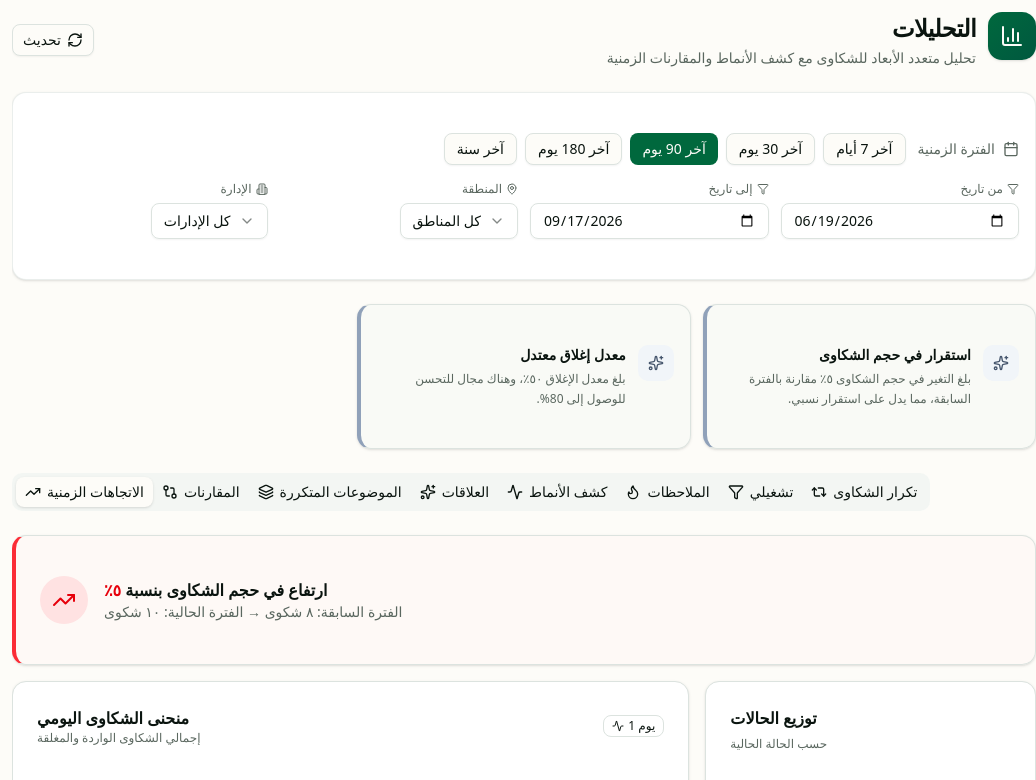
Test case: Analytics — notes tab (pattern-analysis findings) › shows the empty-state message when there are no findings
Click the tab "الملاحظات" at (668, 492), box [616,477,719,507]
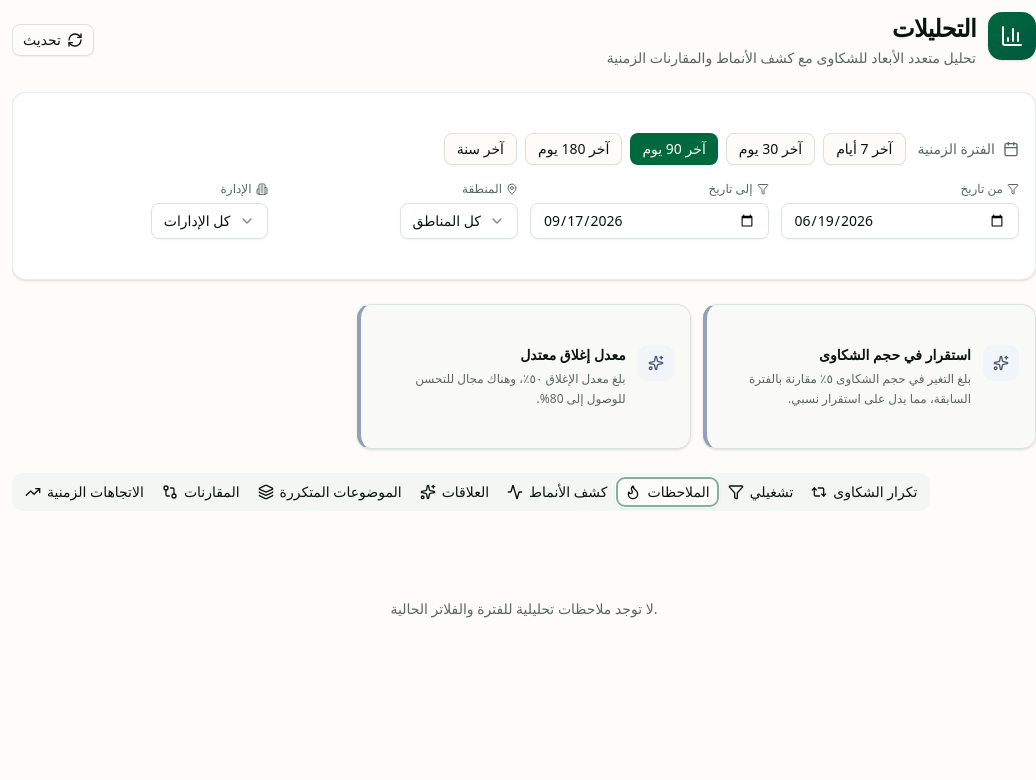
Result: the text "لا توجد ملاحظات تحليلية للفترة والفلاتر الحالية." is shown at [390,599,658,618]
